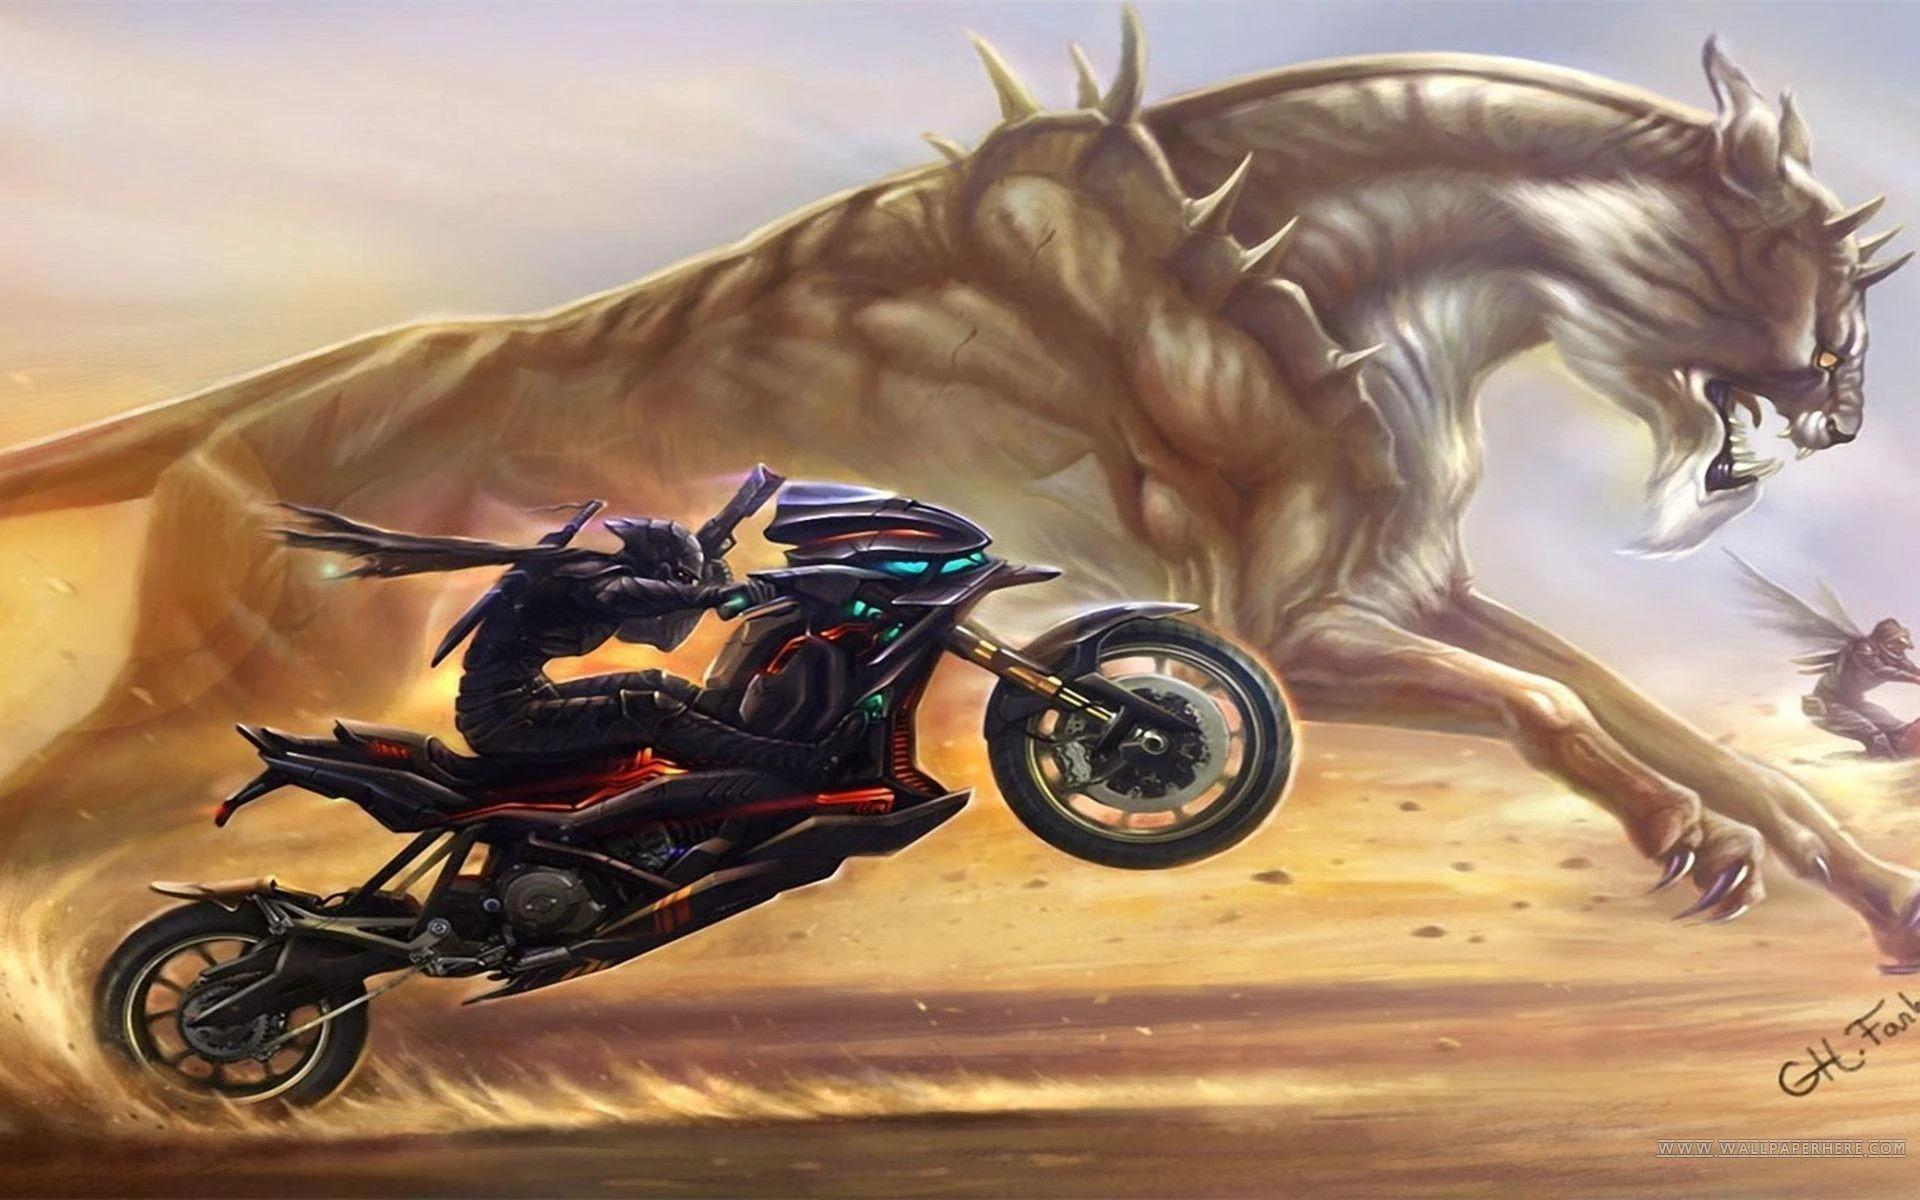Motorcycle: (147, 487, 1312, 1047)
